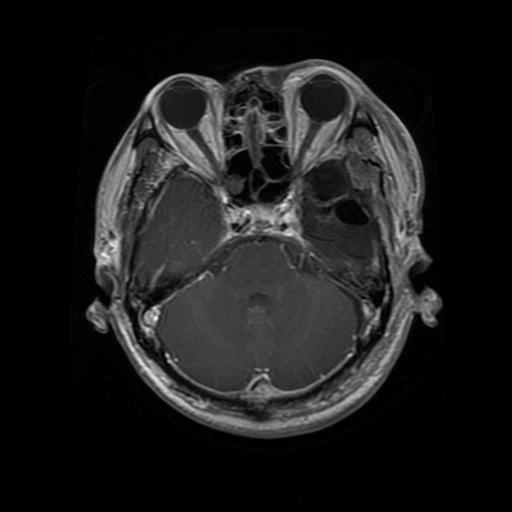Tumour-Glioma: (300, 161, 390, 261)
